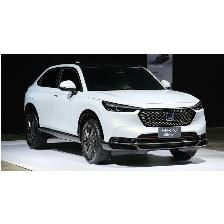NON-EV: (24, 60, 209, 164)
